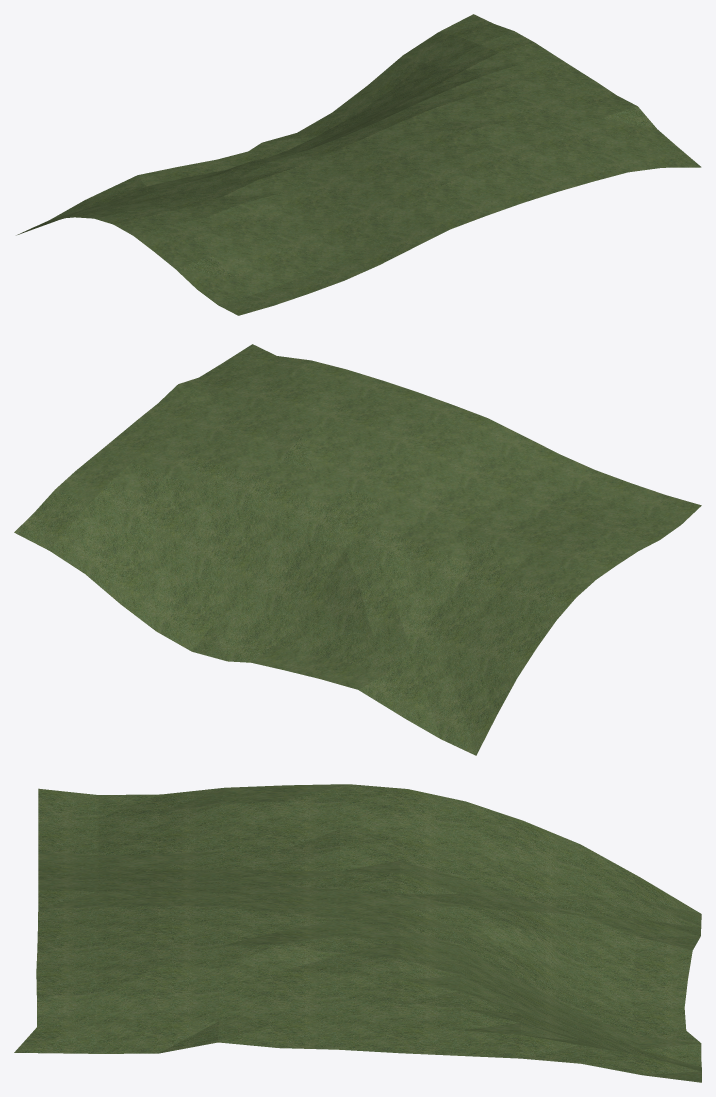
Rendered from a_carisle_mid_landmass_02_11.fbx.
3 renders of one model, top to bottom at view 1: azimuth 30°, elevation 25°; view 2: azimuth 150°, elevation 25°; view 3: azimuth 270°, elevation 25°, orthographic. The views are drawn at different scales.
Parts seen in each view (by area): view 1: a_carisle_mid_landmass_02_11; view 2: a_carisle_mid_landmass_02_11; view 3: a_carisle_mid_landmass_02_11.
Boxes of the visible parts, <box> form: a_carisle_mid_landmass_02_11: <box>16,14,701,315</box>; a_carisle_mid_landmass_02_11: <box>14,344,701,755</box>; a_carisle_mid_landmass_02_11: <box>14,784,701,1082</box>.
Bounding box in the file's own units: 26.49 × 23.22 × 7.57.
